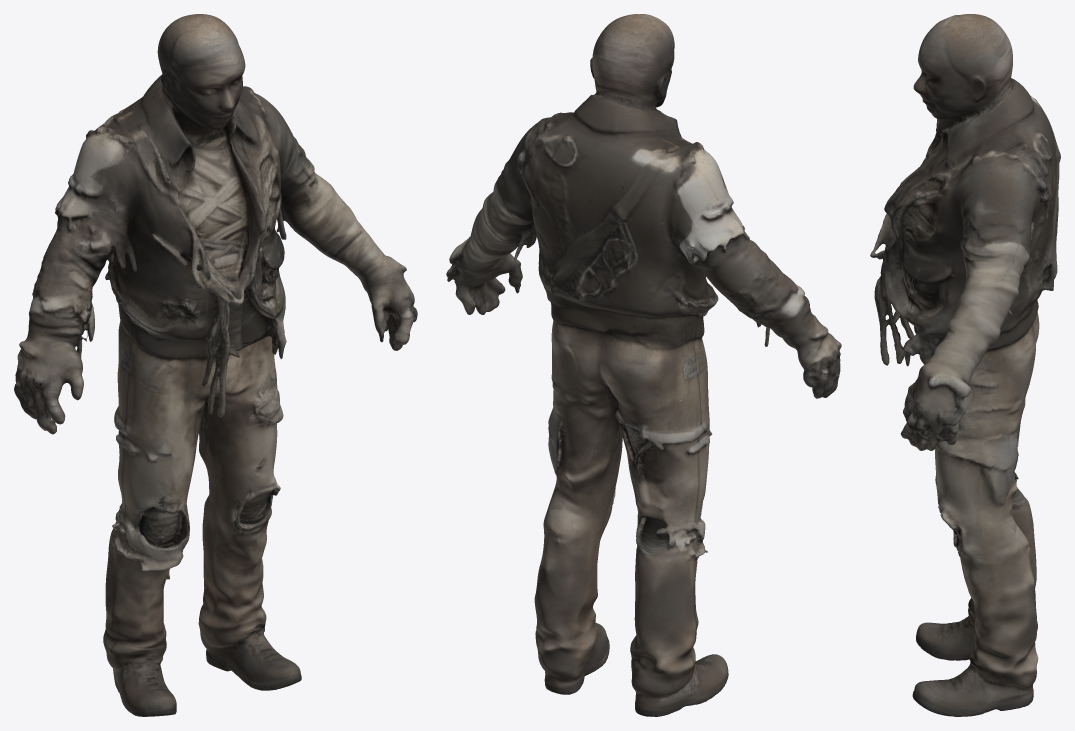
Rendered from Meshy_AI_Desolate_Survivor_0520202650_texture.fbx.
The picture shows the model from 3 angles, left to right: view 1: azimuth 30°, elevation 25°; view 2: azimuth 150°, elevation 25°; view 3: azimuth 270°, elevation 25°; orthographic projection.
Parts seen in each view (by area): view 1: Mesh_0; view 2: Mesh_0; view 3: Mesh_0.
Boxes of the visible parts, bbox=[...] form: Mesh_0: bbox=[14, 14, 417, 716]; Mesh_0: bbox=[446, 14, 841, 716]; Mesh_0: bbox=[870, 14, 1060, 716].
Bounding box in the file's own units: 121 × 200 × 52.36.
1 material, 1 textured.
